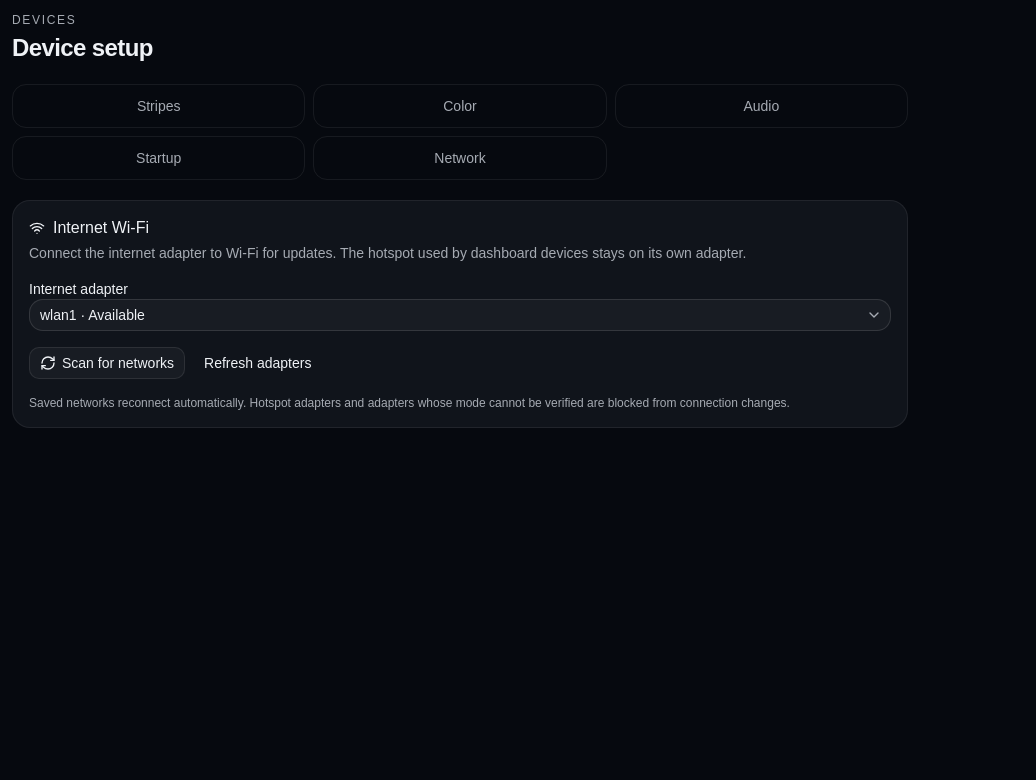
Scenario: NetworkSetupPage › reports a failed password without exposing it in the page
This screenshot has width=1036, height=780.
Click the button "Scan for networks" at [107, 363], box [29, 347, 185, 379]
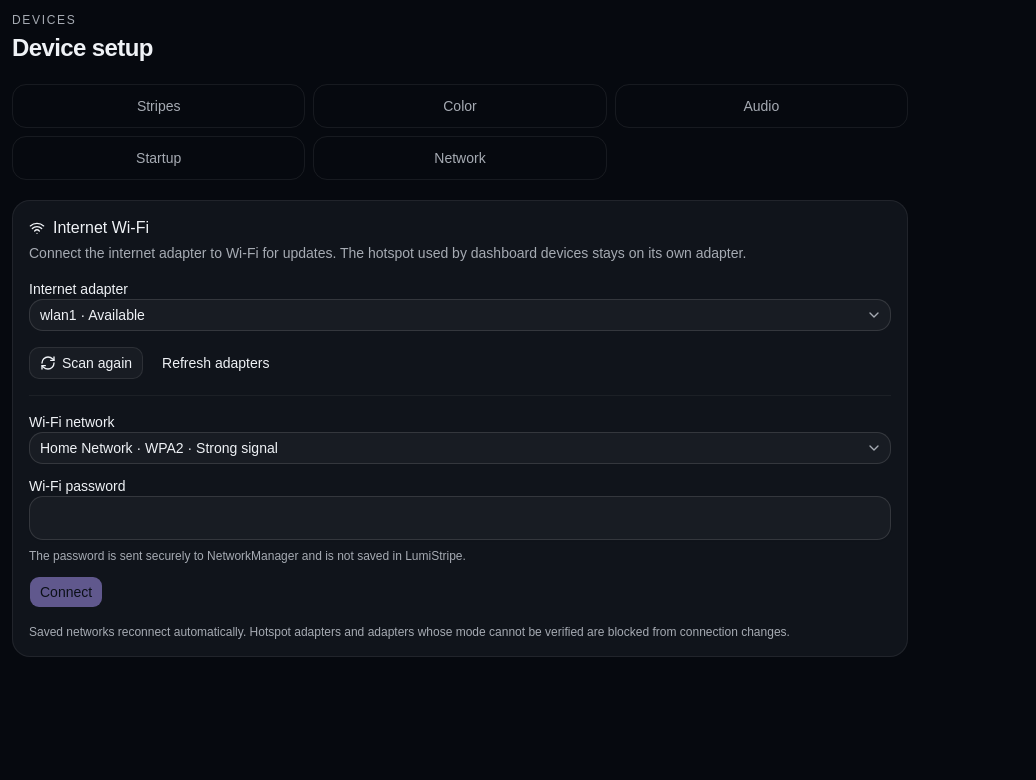
Click the dropdown named "Wi-Fi network" at [159, 448], box [29, 432, 891, 464]
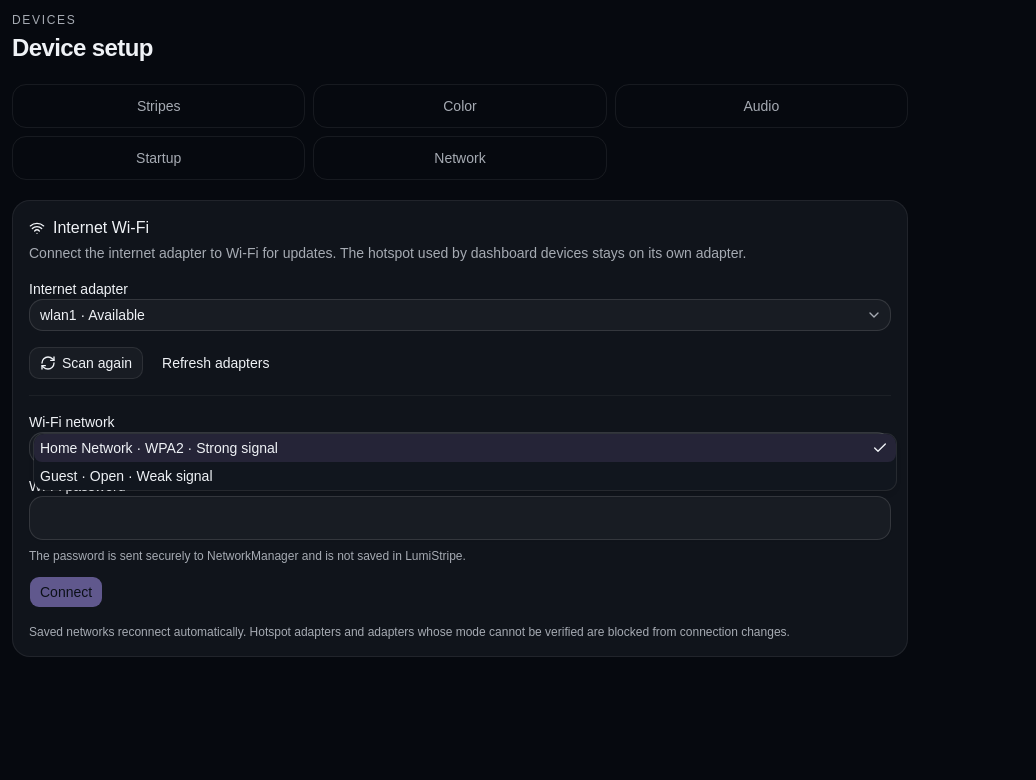
Click the option "Home Network · WPA2 · Strong signal" at [86, 448], box [34, 434, 896, 462]
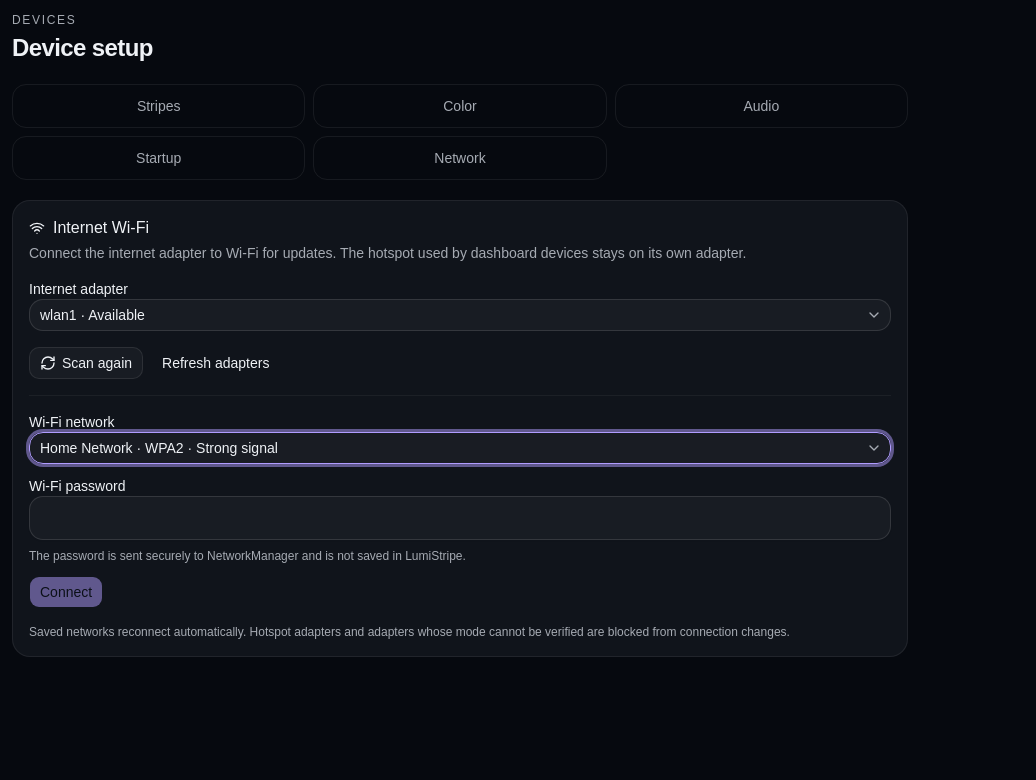
Type "bad-password" into the password field labelled "Wi-Fi password" at [460, 518], box [29, 496, 891, 540]
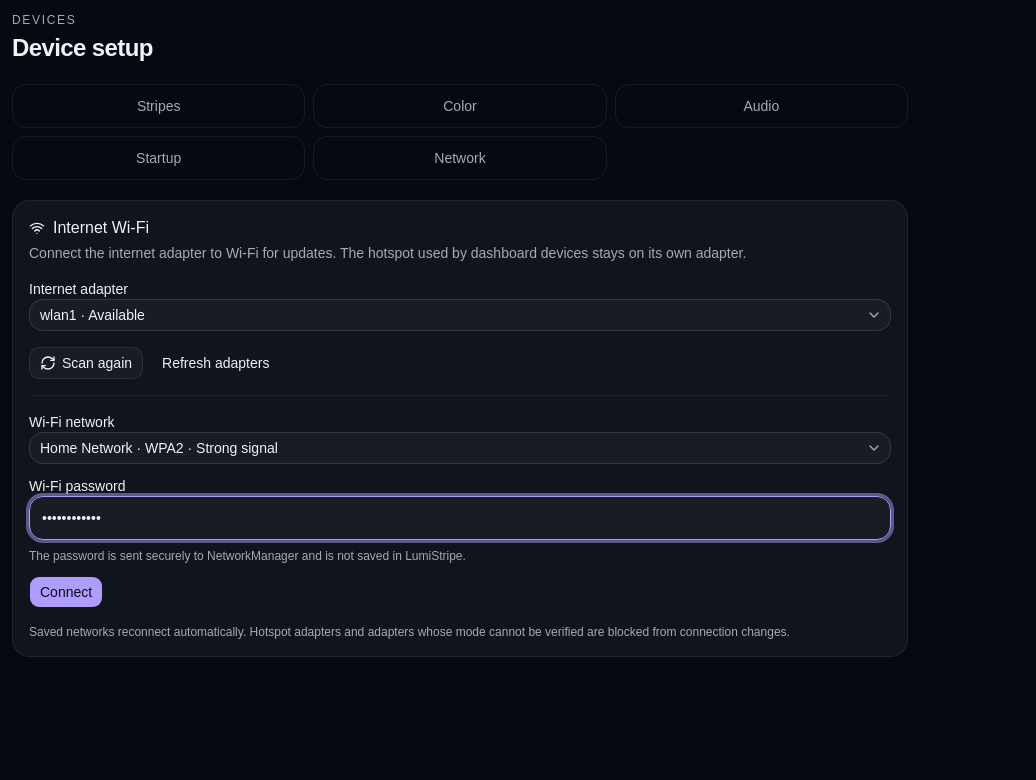
Click the button "Connect" at [66, 592], box [29, 576, 103, 608]
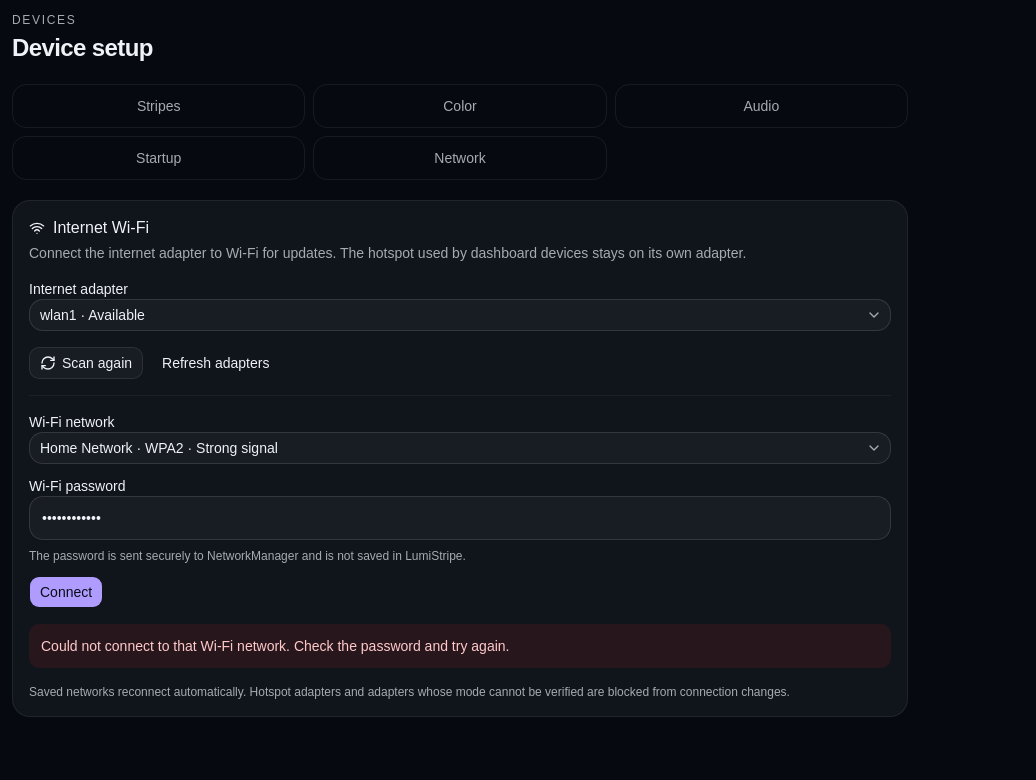
Expected: the message shows "Check the password", [41, 638, 510, 654]
